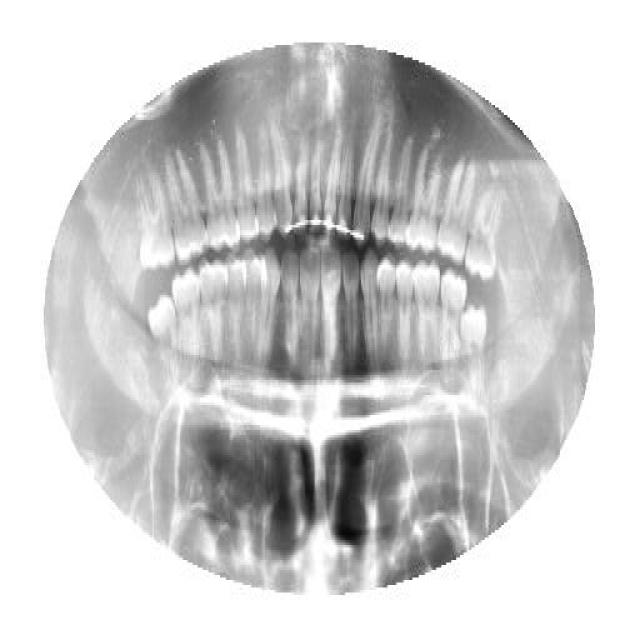Impacted Tooth: (458, 300, 488, 372)
